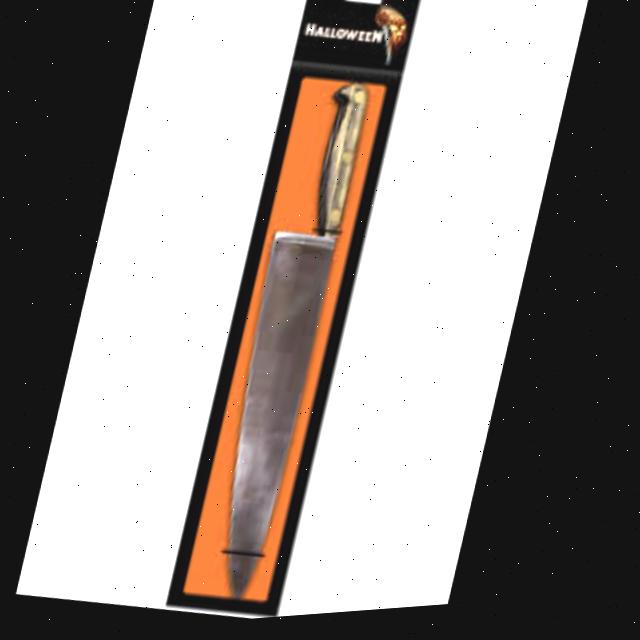knife: (196, 77, 377, 607)
